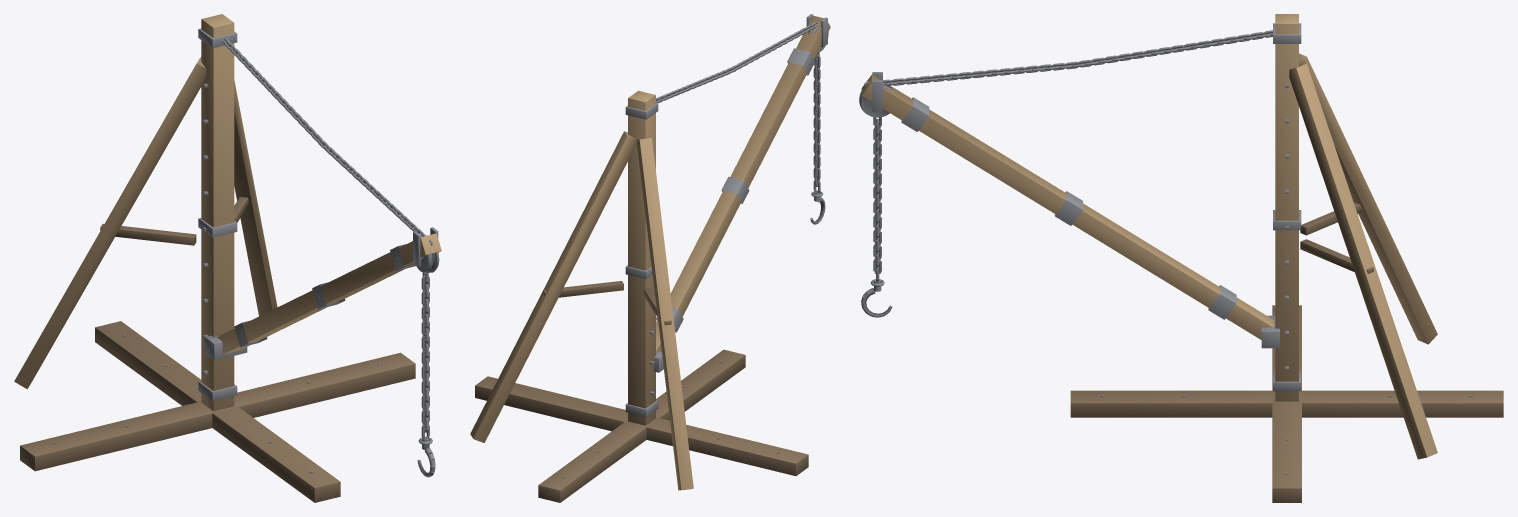
File: rig_crane.glb
3 renders of one model, left to right at view 1: azimuth 30°, elevation 25°; view 2: azimuth 150°, elevation 25°; view 3: azimuth 270°, elevation 25°, orthographic. The views are drawn at different scales.
Parts seen in each view (by area): view 1: rig_crane, boom, lift; view 2: rig_crane, boom, lift; view 3: rig_crane, boom, lift.
Part boxes in pixels (x1,y1,x2,y2): rig_crane: [14, 14, 415, 502]; boom: [217, 227, 441, 477]; lift: [222, 37, 433, 245]; rig_crane: [470, 90, 808, 502]; boom: [656, 14, 830, 353]; lift: [656, 21, 818, 103]; rig_crane: [1070, 14, 1503, 502]; boom: [859, 72, 1273, 339]; lift: [864, 30, 1272, 86].
Size of the model in its own units: 8 by 8 by 11.9.
